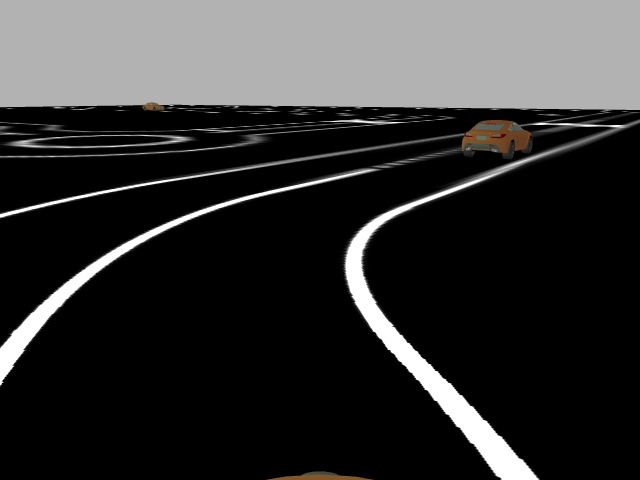obstacle_car: (456, 118, 537, 161)
